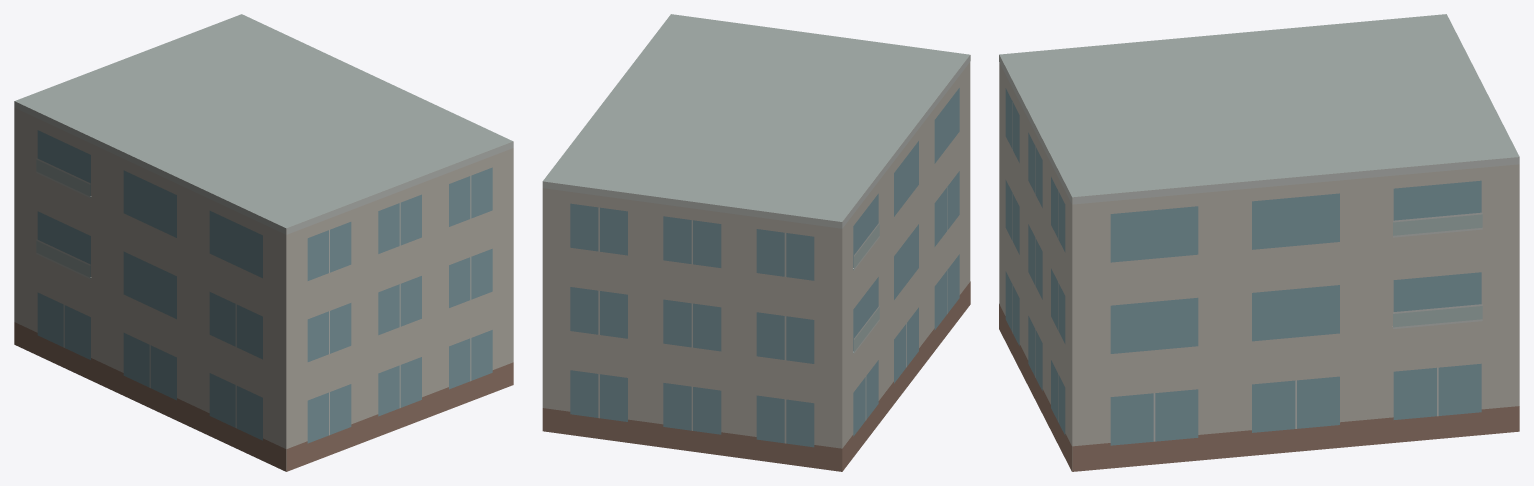
File: survey-upis-32705000.glb
3 views of the same model, side by side, from view 1: azimuth 30°, elevation 25°; view 2: azimuth 150°, elevation 25°; view 3: azimuth 270°, elevation 25° (orthographic). The views are drawn at different scales.
Visible parts, largest first — view 1: survey-upis-32705000.tmp; view 2: survey-upis-32705000.tmp; view 3: survey-upis-32705000.tmp.
Part boxes in pixels (left/top/right/bottom): survey-upis-32705000.tmp: left=14, top=14, right=513, bottom=471; survey-upis-32705000.tmp: left=542, top=14, right=970, bottom=471; survey-upis-32705000.tmp: left=999, top=14, right=1519, bottom=471.
Size of the model in its own units: 13.11 by 9.15 by 15.73.
